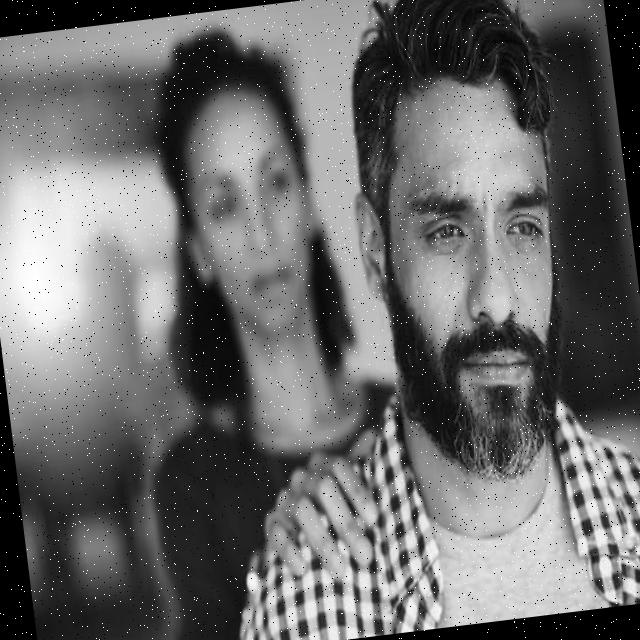Sadness: (366, 64, 588, 492)
